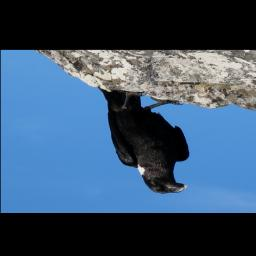Crow: (96, 85, 192, 196)
